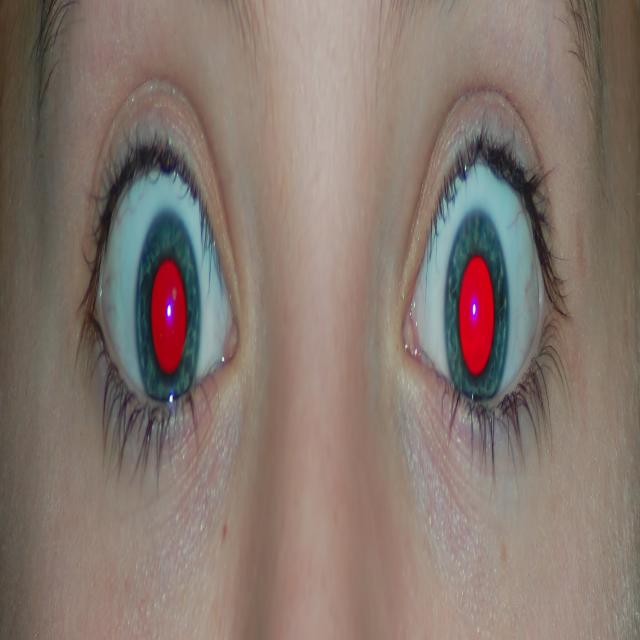reflexo-normal: (129, 138, 202, 449), (442, 170, 511, 430)
